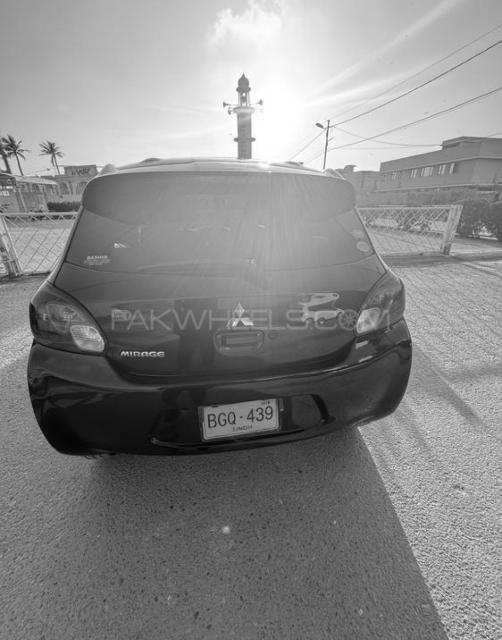Number: (206, 401, 276, 431)
